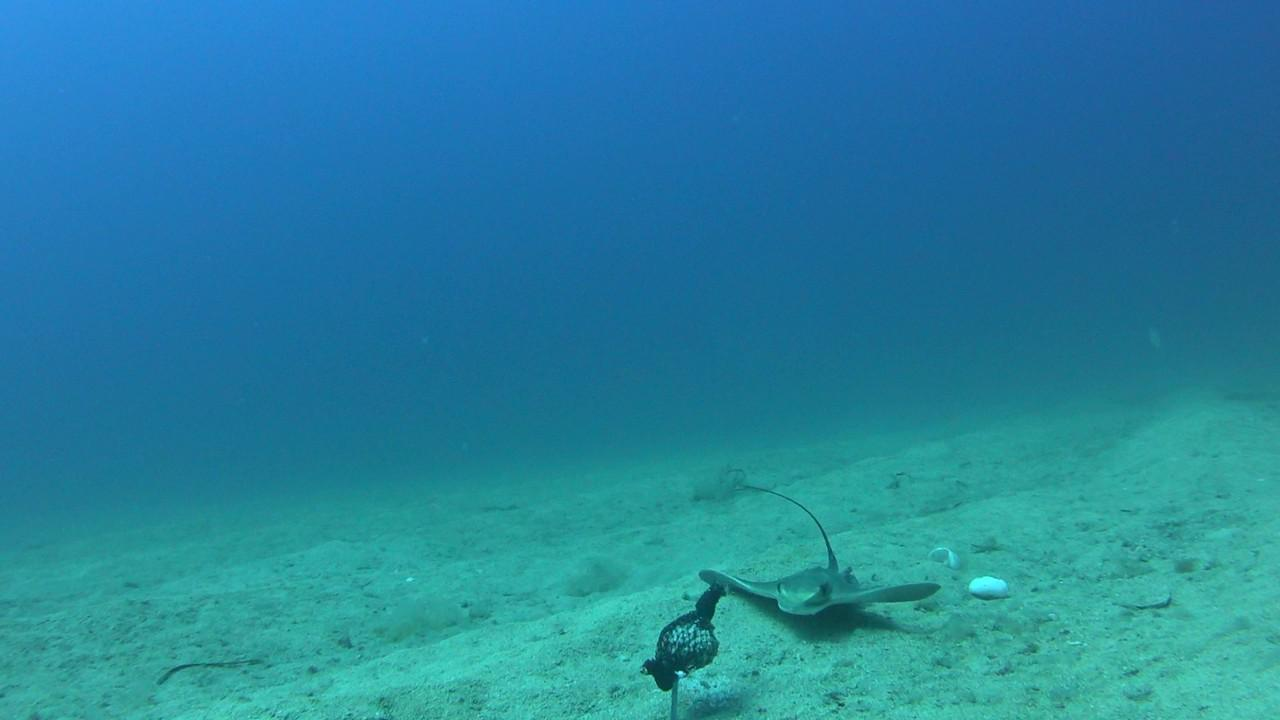myliobatis: (687, 463, 947, 621)
